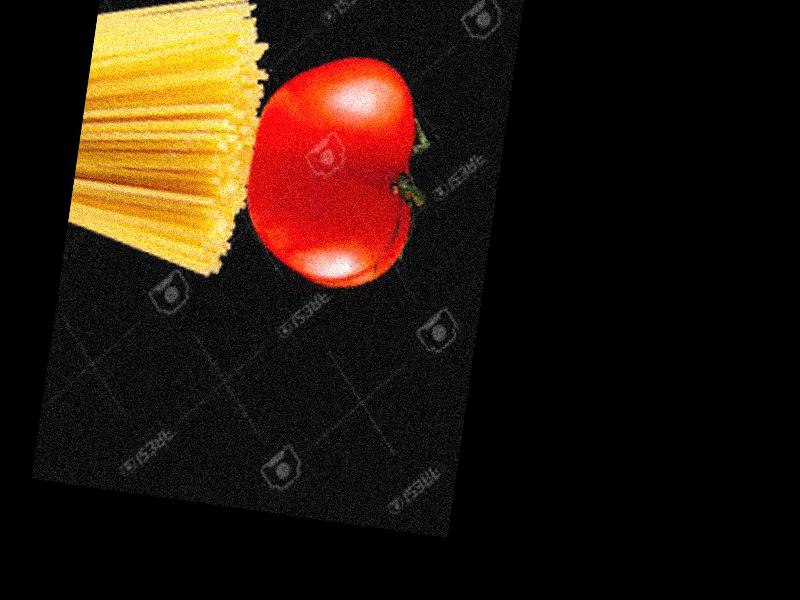Tomato: (234, 45, 433, 292)
